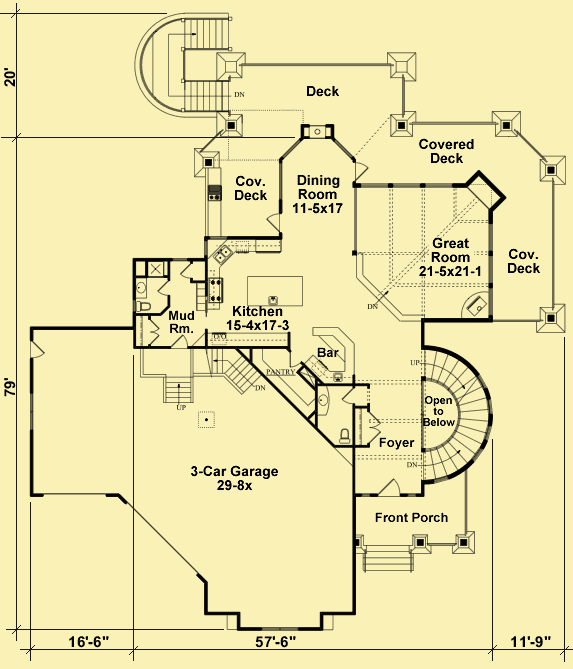door: (364, 405, 382, 444), (378, 474, 401, 499), (261, 209, 283, 234), (335, 386, 357, 409), (349, 158, 371, 180), (169, 331, 189, 350), (150, 317, 162, 347), (157, 277, 171, 297), (179, 260, 192, 280)
large sink: (331, 424, 352, 443), (133, 299, 153, 316)
small sink: (314, 384, 331, 419), (133, 277, 148, 299)
stairs: (130, 7, 250, 116), (410, 343, 498, 485), (132, 350, 270, 414), (358, 543, 417, 577)
twin sink: (214, 243, 236, 265)
